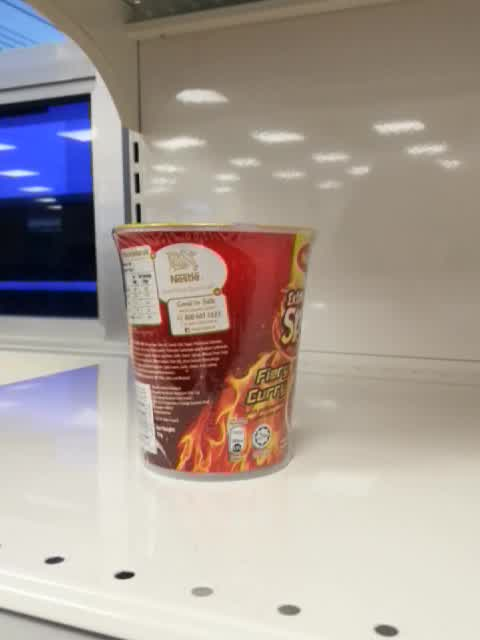maggi: (109, 222, 320, 482)
